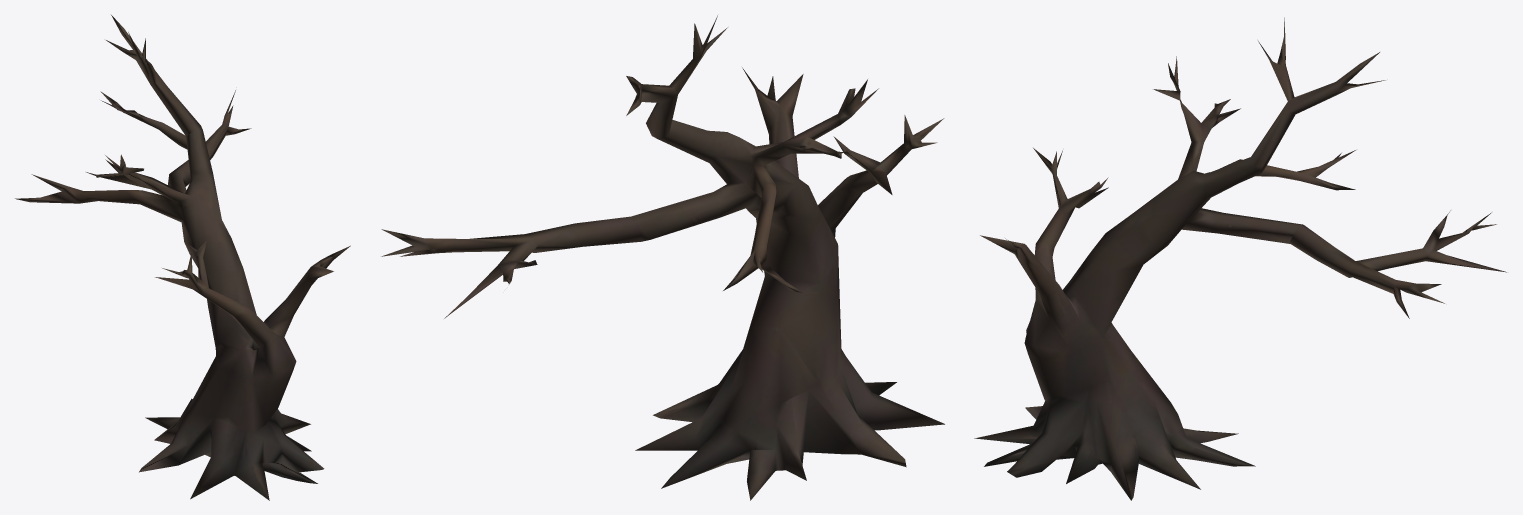
The model's file is dead_tree.glb.
3 views of the same model, side by side, from view 1: azimuth 30°, elevation 25°; view 2: azimuth 150°, elevation 25°; view 3: azimuth 270°, elevation 25° (orthographic). The views are drawn at different scales.
Visible parts, largest first — view 1: tripo_node_2b536516-d7e8-4b42-95a3-96e95223af35; view 2: tripo_node_2b536516-d7e8-4b42-95a3-96e95223af35; view 3: tripo_node_2b536516-d7e8-4b42-95a3-96e95223af35.
Part boxes in pixels (x1=…): tripo_node_2b536516-d7e8-4b42-95a3-96e95223af35: x1=15, y1=15, x2=350, y2=500; tripo_node_2b536516-d7e8-4b42-95a3-96e95223af35: x1=381, y1=15, x2=944, y2=500; tripo_node_2b536516-d7e8-4b42-95a3-96e95223af35: x1=974, y1=17, x2=1506, y2=500.
Bounding box in the file's own units: 0.6178 × 0.8215 × 0.9405.
1 material, 1 textured.
